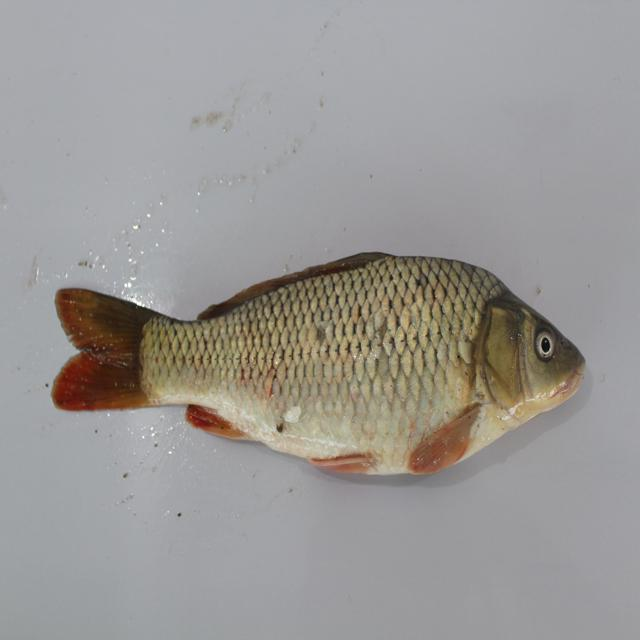CommonCarp: (49, 232, 596, 509)
